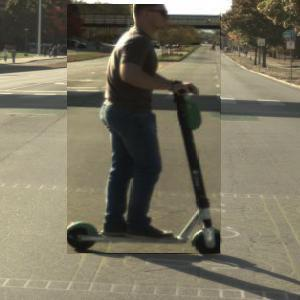with scooter: (68, 4, 222, 255)
